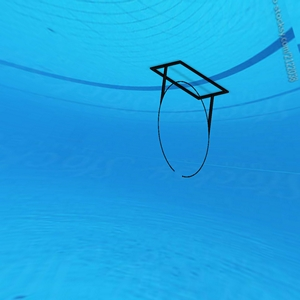circle: (146, 59, 231, 180)
